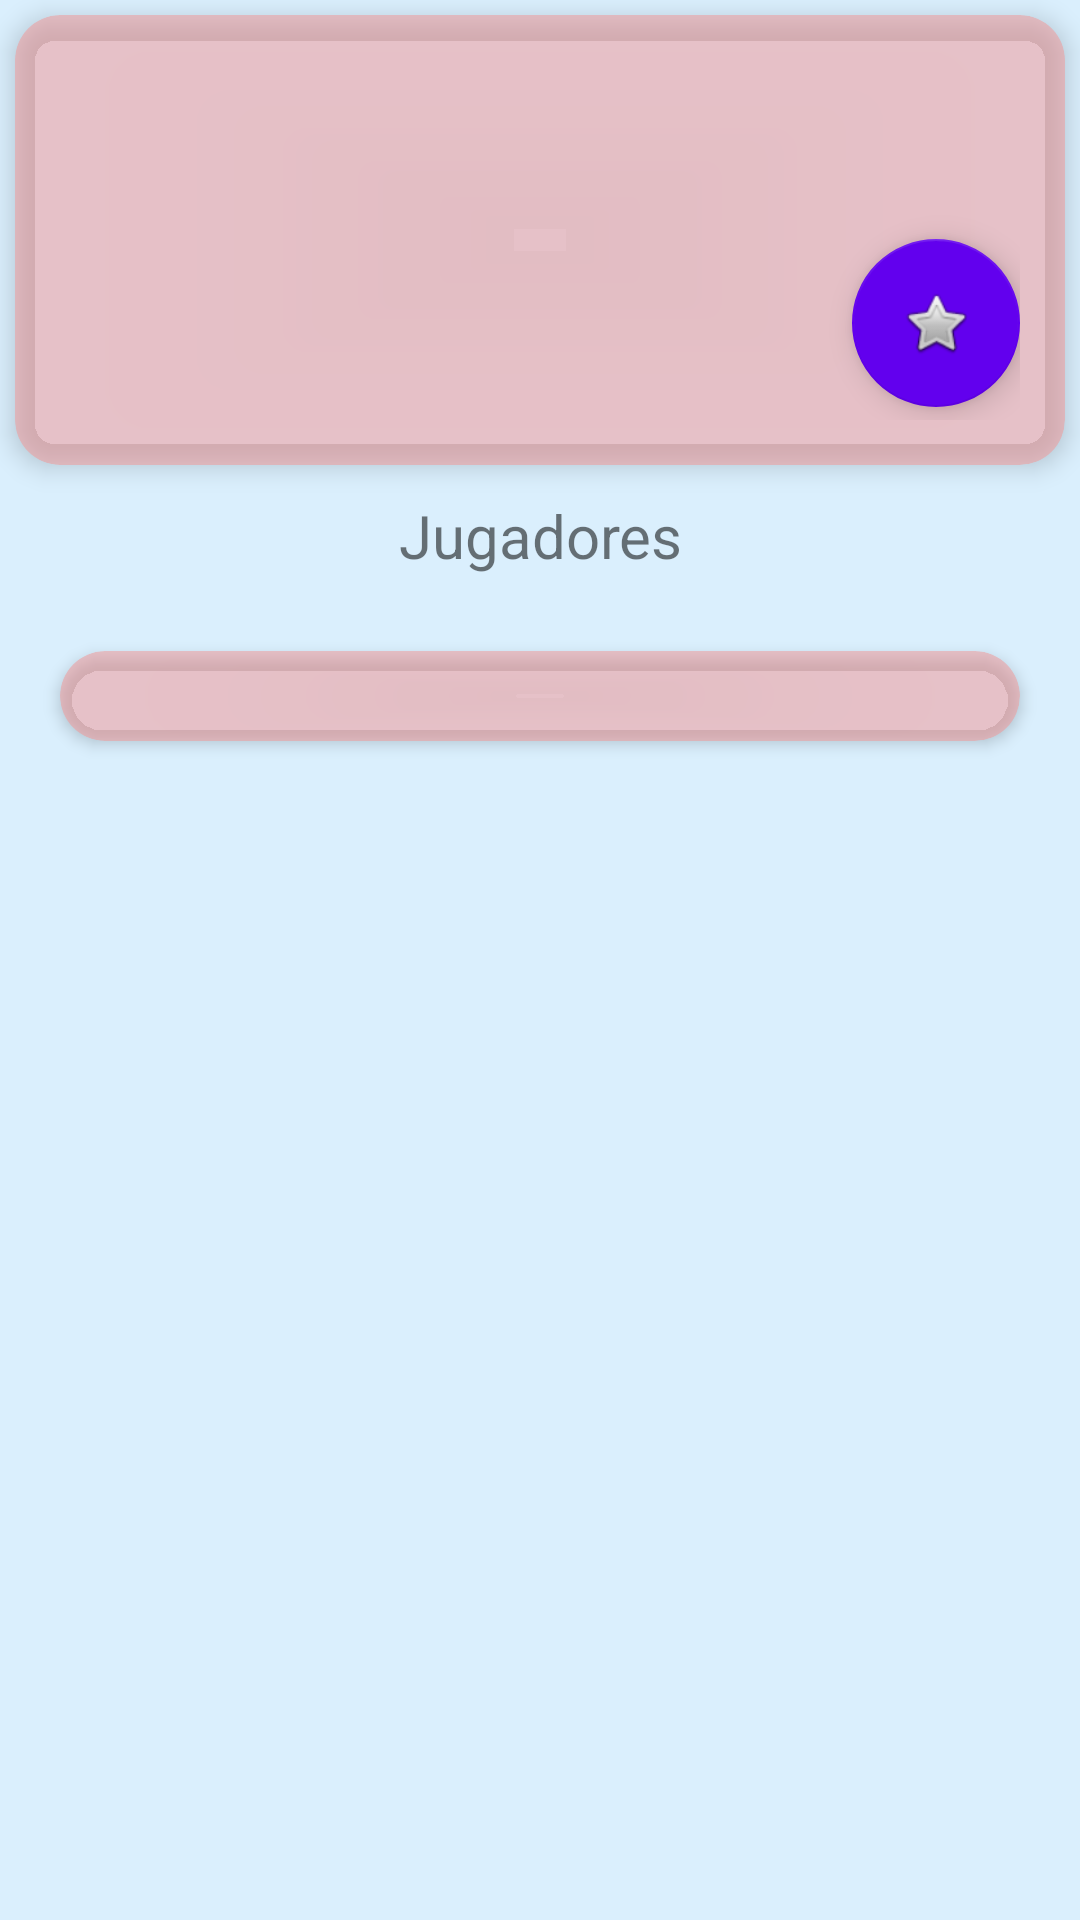

Icons on this 1080*1920 Android screen, each with its box as (x1, y1, x2, y2):
star: (852, 239, 1020, 407)
